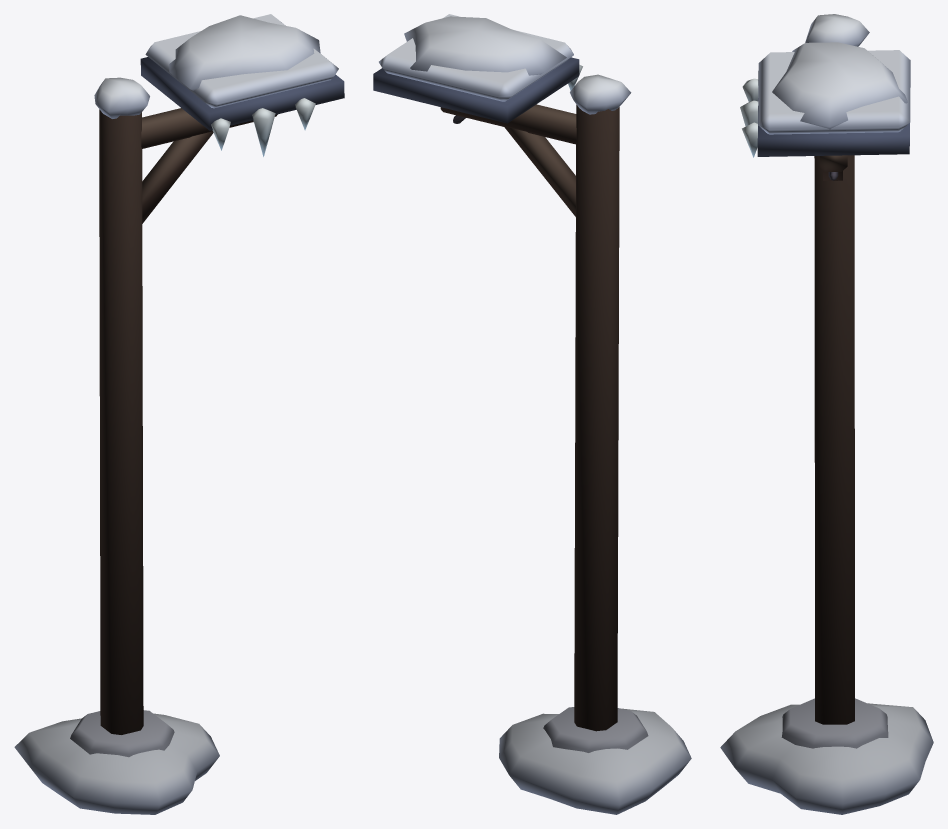
File: zv-onsen-lanternPost.glb
3 views of the same model, side by side, from view 1: azimuth 30°, elevation 25°; view 2: azimuth 150°, elevation 25°; view 3: azimuth 270°, elevation 25° (orthographic). The views are drawn at different scales.
Visible parts, largest first — view 1: zv-onsen-lanternPost; view 2: zv-onsen-lanternPost; view 3: zv-onsen-lanternPost.
Part boxes in pixels (x1,y1,x2,y2): zv-onsen-lanternPost: [14, 14, 344, 814]; zv-onsen-lanternPost: [373, 14, 691, 814]; zv-onsen-lanternPost: [720, 14, 933, 814].
Size of the model in its own units: 0.8402 by 2.19 by 0.5339.
